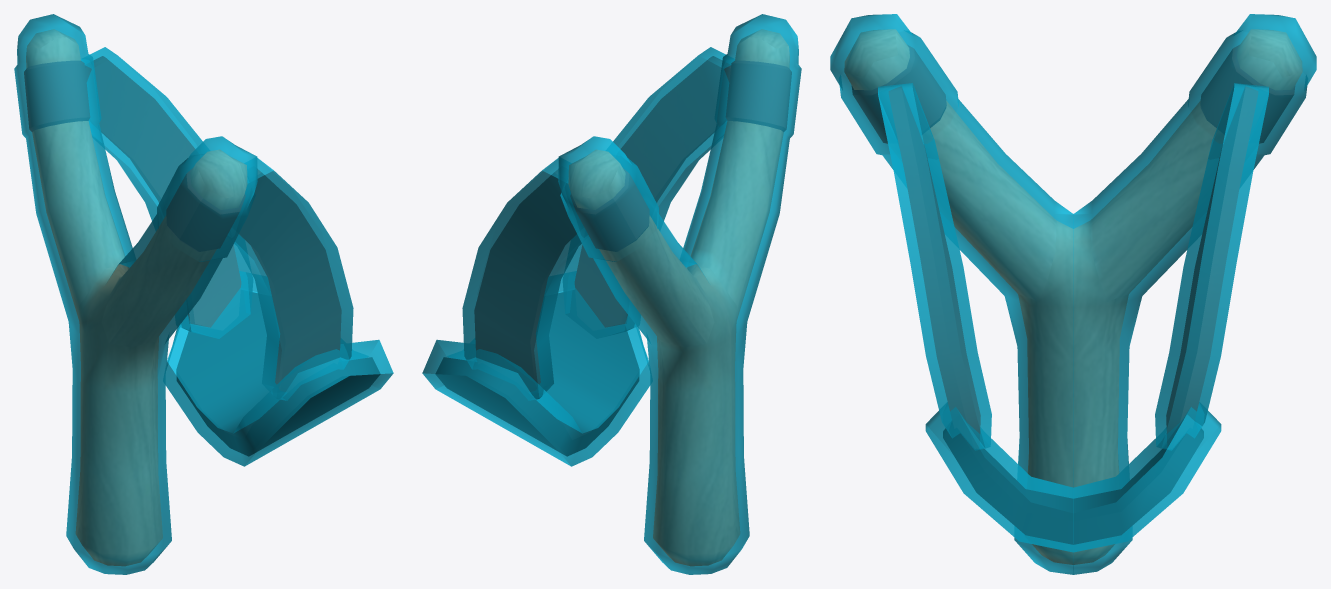
The model's file is dangong.fbx.
3 views of the same model, side by side, from view 1: azimuth 30°, elevation 25°; view 2: azimuth 150°, elevation 25°; view 3: azimuth 270°, elevation 25° (orthographic). The views are drawn at different scales.
Parts seen in each view (by area): view 1: pCube8; view 2: pCube8; view 3: pCube8.
Part boxes in pixels (x1,y1,x2,y2): pCube8: (14,14,393,574); pCube8: (422,14,801,574); pCube8: (830,14,1316,574).
Bounding box in the file's own units: 0.6057 × 0.9855 × 0.7716.
